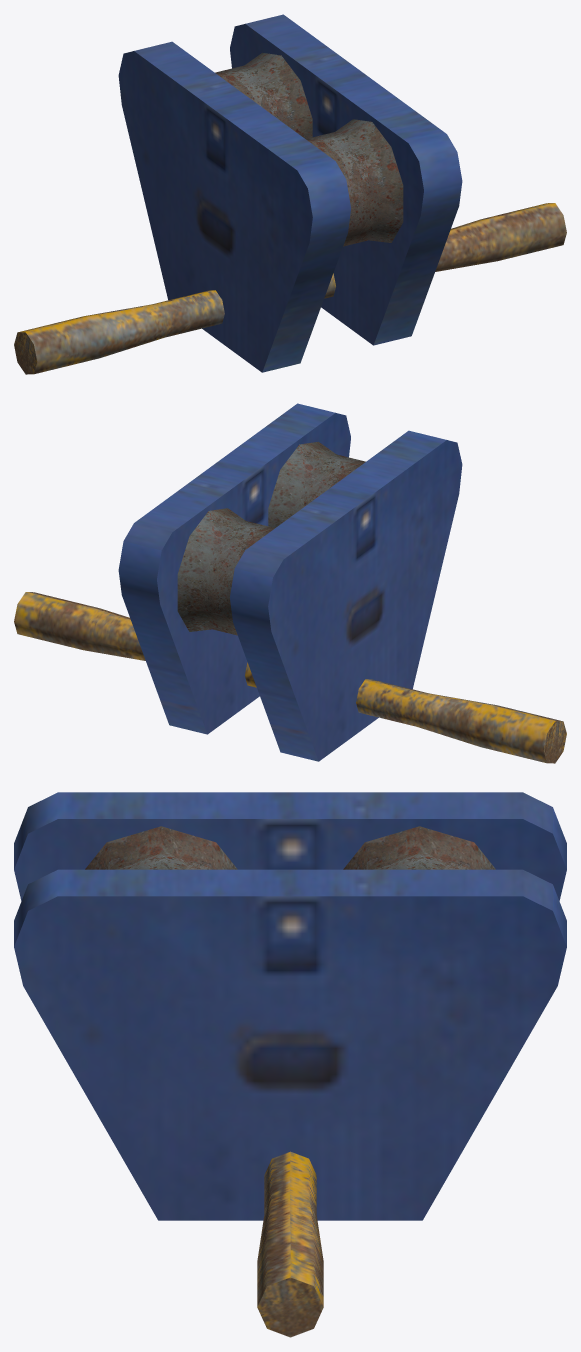
File: Zip_Line_Handle.fbx
3 views of the same model, one above another, from view 1: azimuth 30°, elevation 25°; view 2: azimuth 150°, elevation 25°; view 3: azimuth 270°, elevation 25° (orthographic). The views are drawn at different scales.
Parts seen in each view (by area): view 1: Zip_Line_Handle; view 2: Zip_Line_Handle; view 3: Zip_Line_Handle.
Boxes of the visible parts, bbox=[...] form: Zip_Line_Handle: bbox=[14, 14, 566, 374]; Zip_Line_Handle: bbox=[14, 403, 566, 763]; Zip_Line_Handle: bbox=[14, 792, 566, 1337].
Size of the model in its own units: 102 by 42.13 by 65.08.
Materials: 3 (3 with a texture image).
